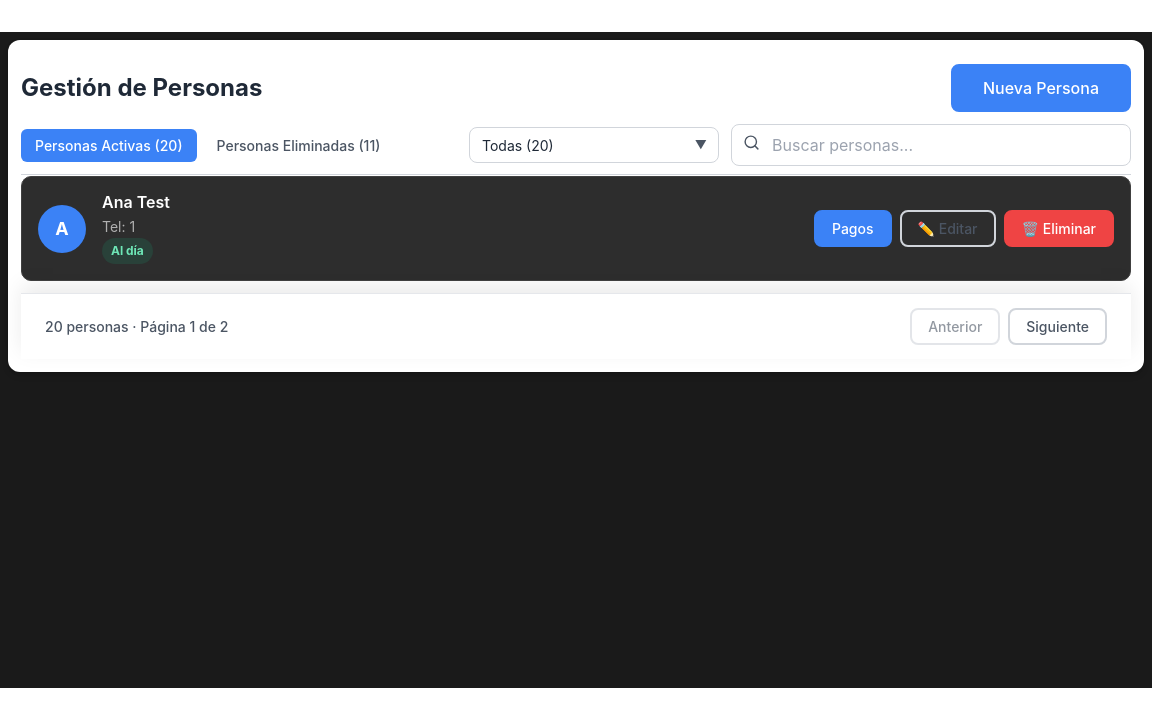
Test: paginación compartida en catálogos › Personas eliminadas pagina en backend y retrocede al restaurar el último registro
The image size is (1152, 720).
Click the button "Personas Eliminadas (11)" at (298, 145), box [202,128,394,162]
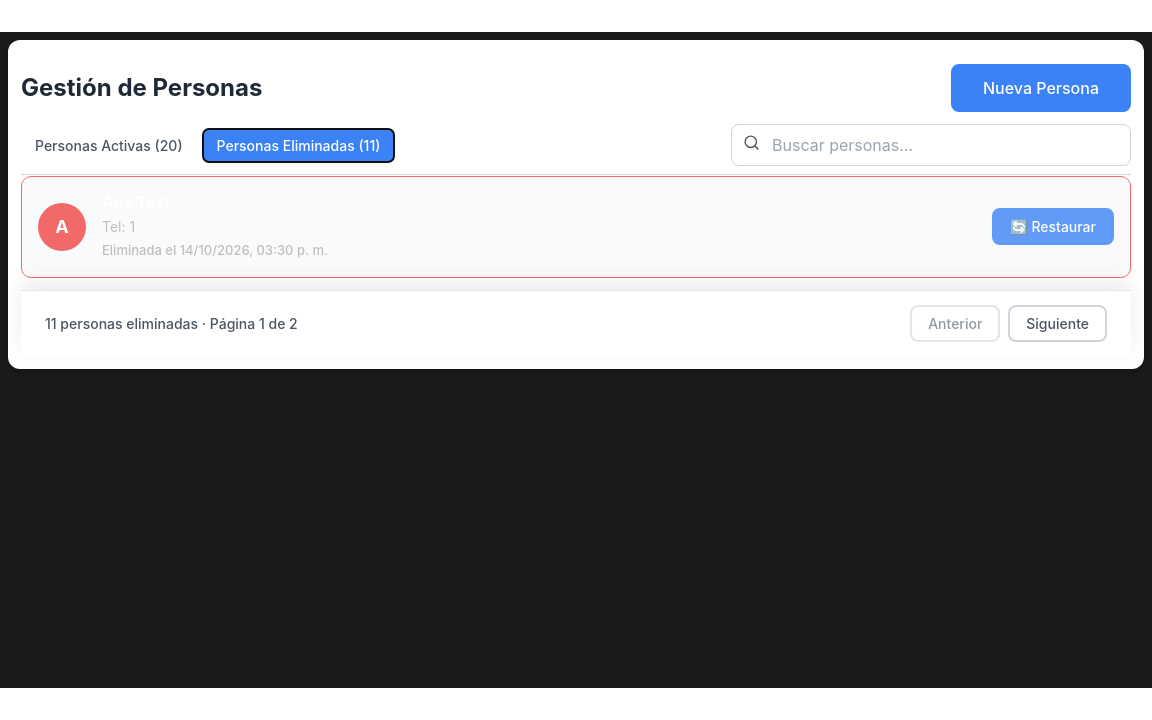
Now the text "11 personas eliminadas · Página 1 de 2" is shown, box [45,313,298,334]
Now the text "Eliminada el 14/10/2026, 03:30 p. m." is shown, box [102,242,328,258]
Type "Ana Test" into the field labelled "Buscar personas" at (931, 145), box [731,124,1131,166]
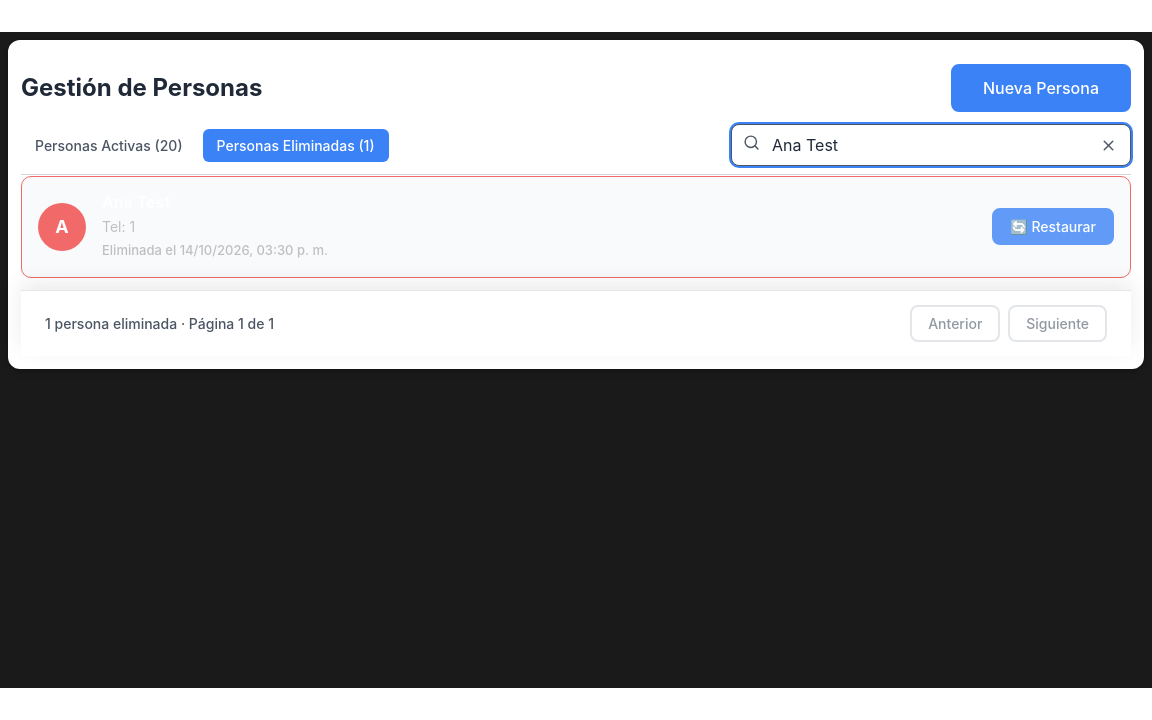
Now the text "1 persona eliminada · Página 1 de 1" is shown, box [45,313,274,334]
Click the button named "Limpiar búsqueda" at (1108, 145), box [1093,130,1123,160]
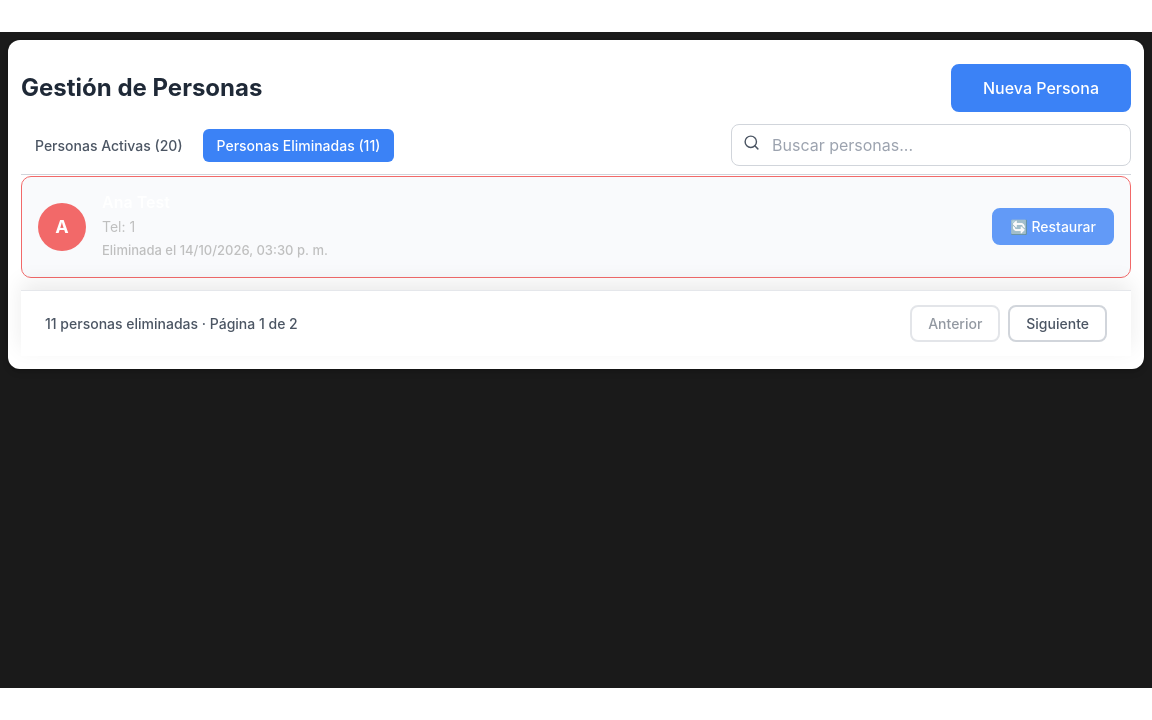
Now the text "11 personas eliminadas · Página 1 de 2" is shown, box [45,313,298,334]
Click the button "Siguiente" at (1058, 323), box [1008,305,1107,342]
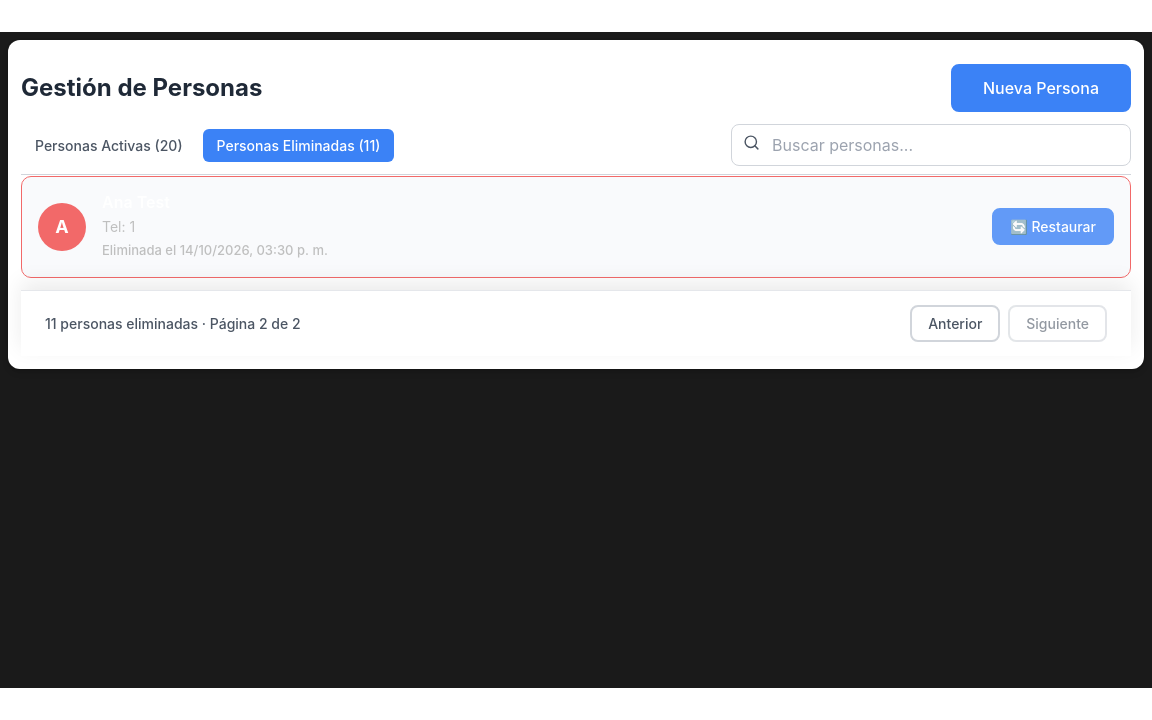
Now the text "11 personas eliminadas · Página 2 de 2" is shown, box [45,313,301,334]
Click the button "🔄 Restaurar" at (1053, 227), box [992,208,1114,245]
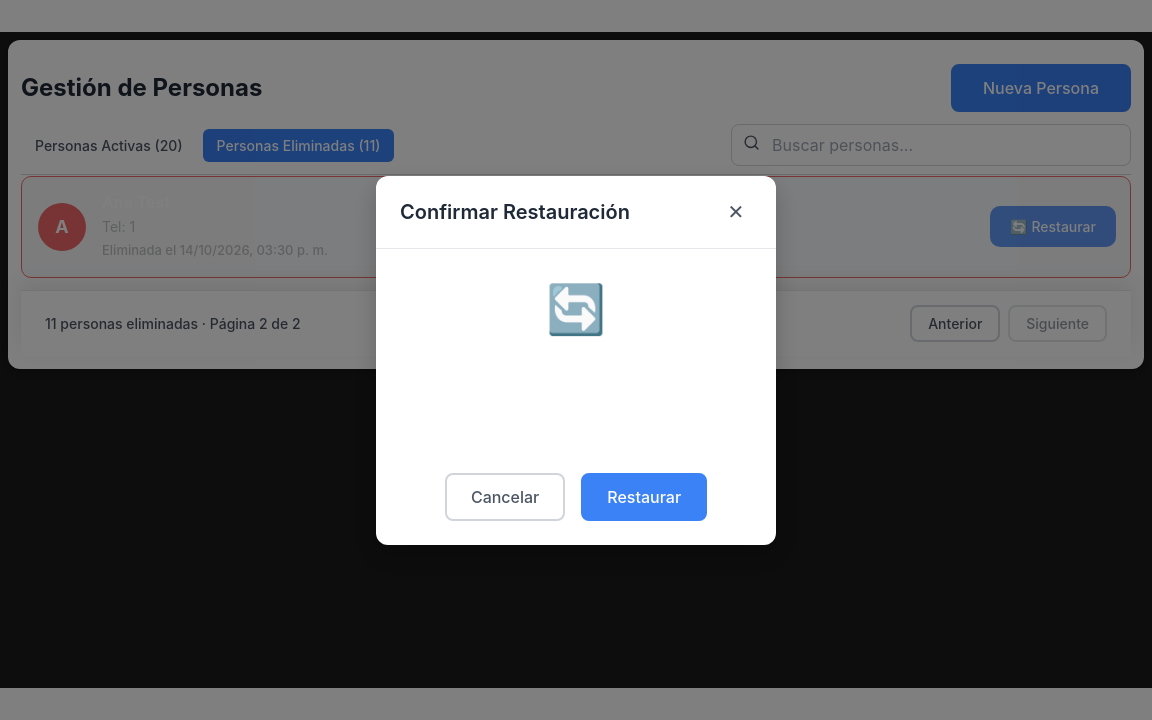
Click the button "Restaurar" at (644, 496), box [581,472,707,520]
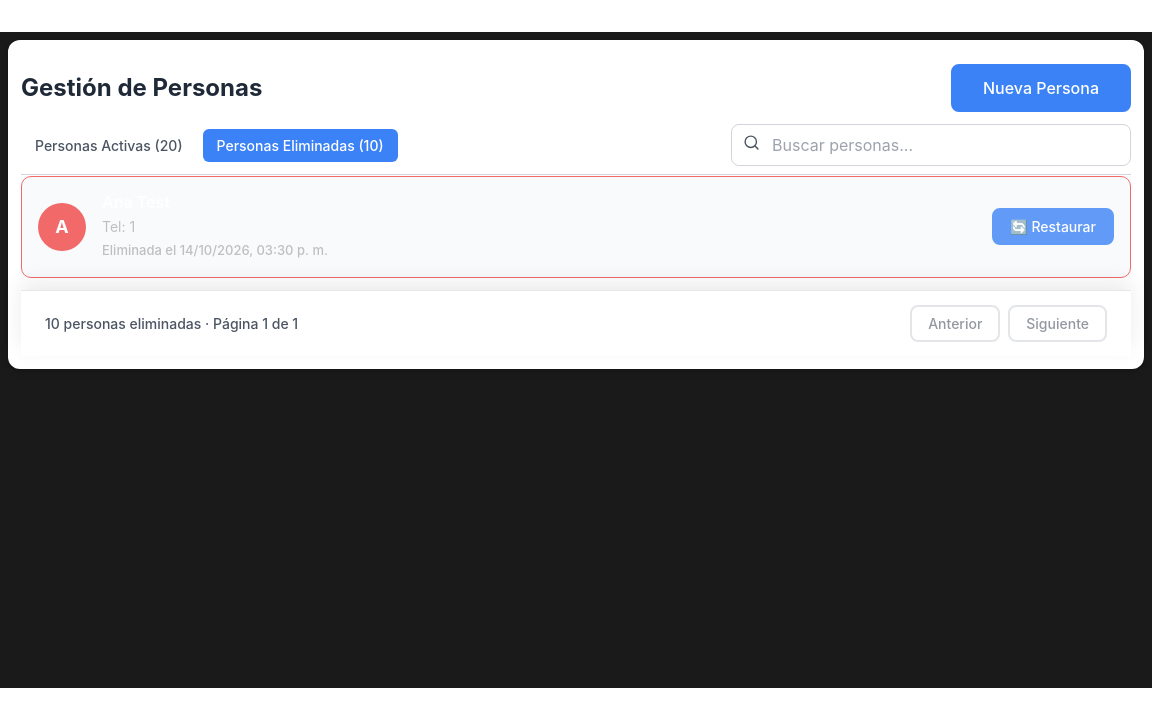
Now the text "10 personas eliminadas · Página 1 de 1" is shown, box [45,313,298,334]
